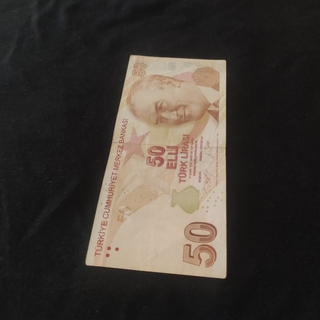50TLFront: (85, 55, 227, 279)
